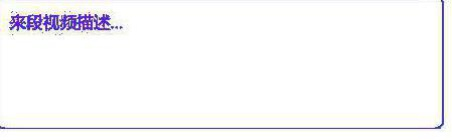EditText: (1, 1, 451, 139)
